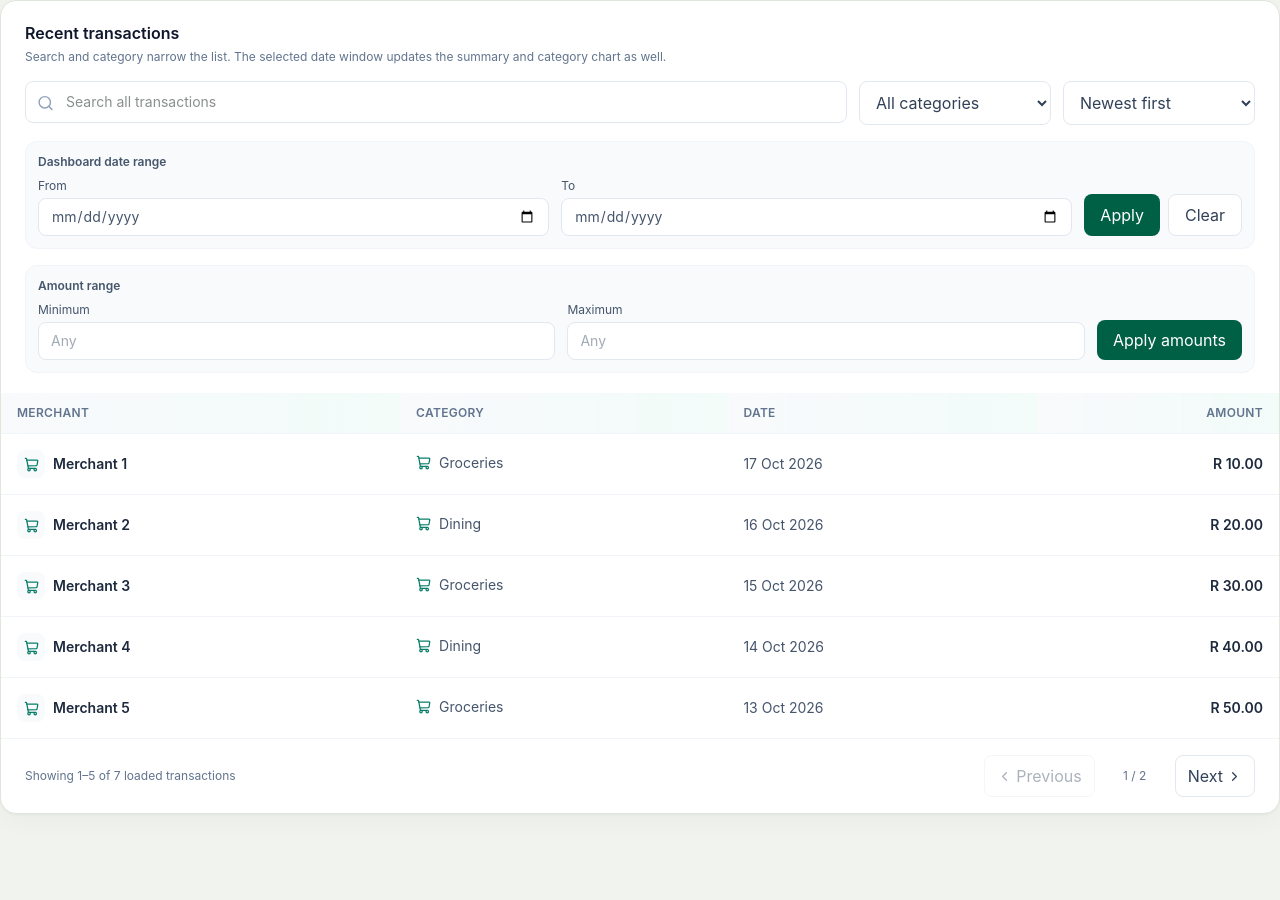
RecentTransactions › requests category filtering and presents an empty message when search has no matches
Select "Dining" in the 1st dropdown named "filter by transaction category" at (955, 103), box [859, 81, 1051, 125]
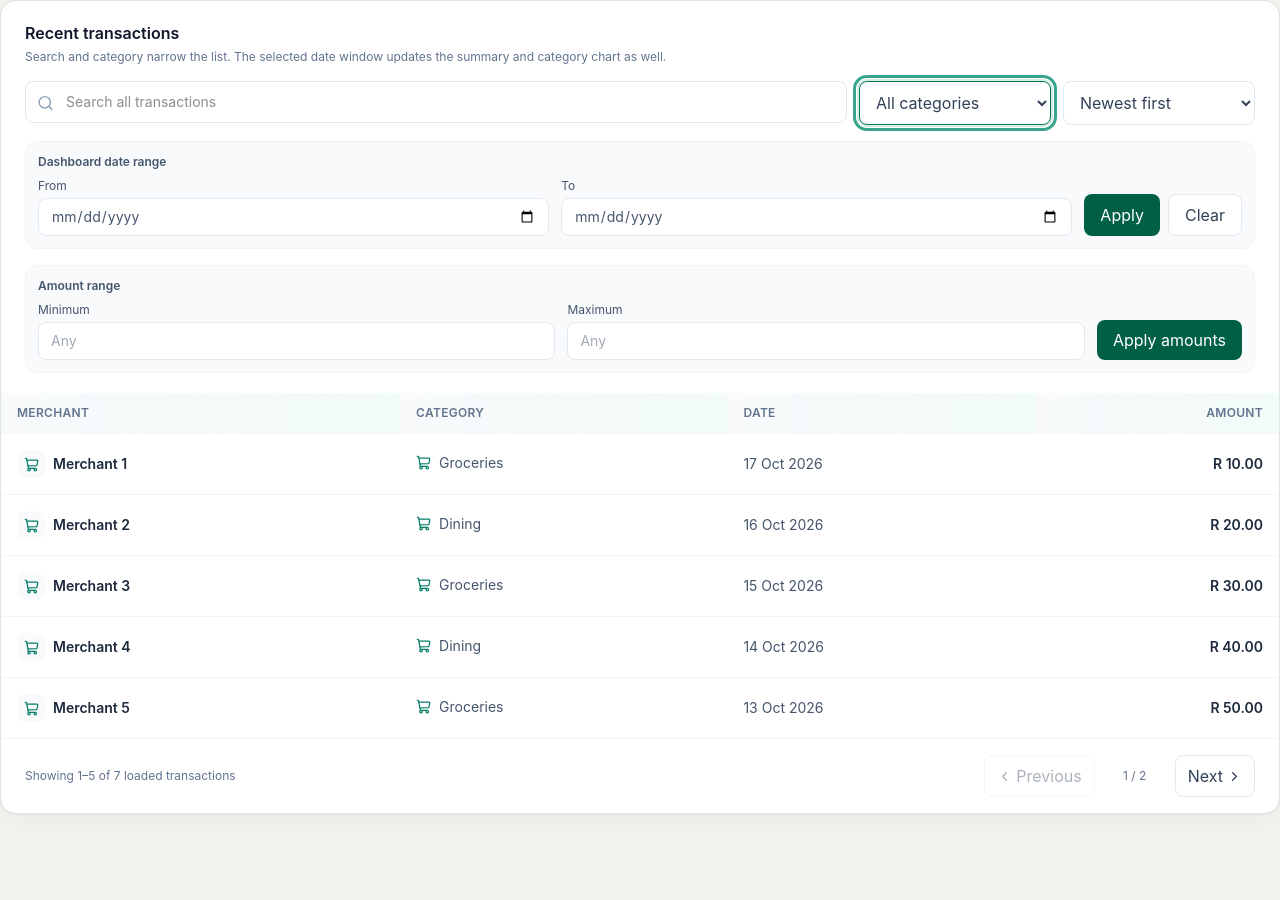
Type "does not exist" into the search field labelled "Search all transactions" at (436, 102), box [25, 81, 847, 123]
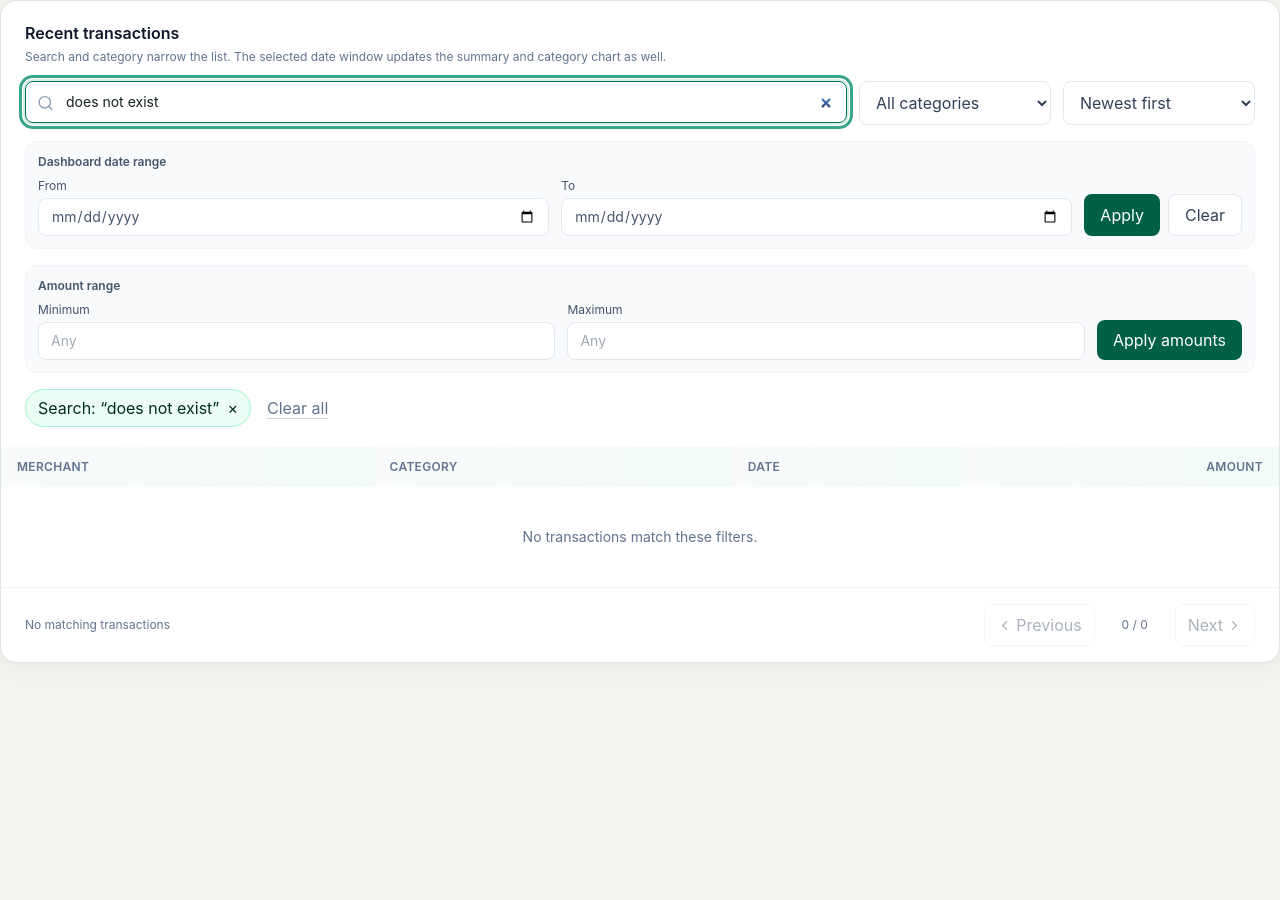
Now the text "No transactions match these filters." is shown, box [1, 487, 1279, 587]
Now the text "No matching transactions" is shown, box [25, 617, 170, 633]
